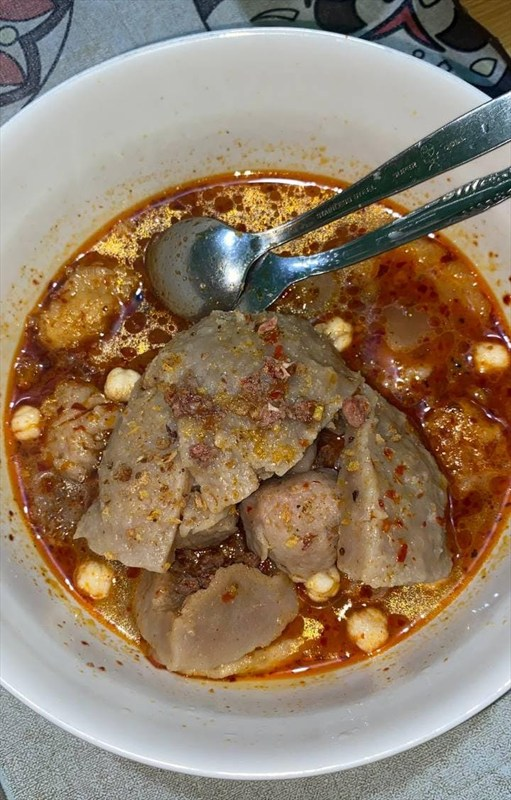Bakso: (20, 152, 500, 675)
